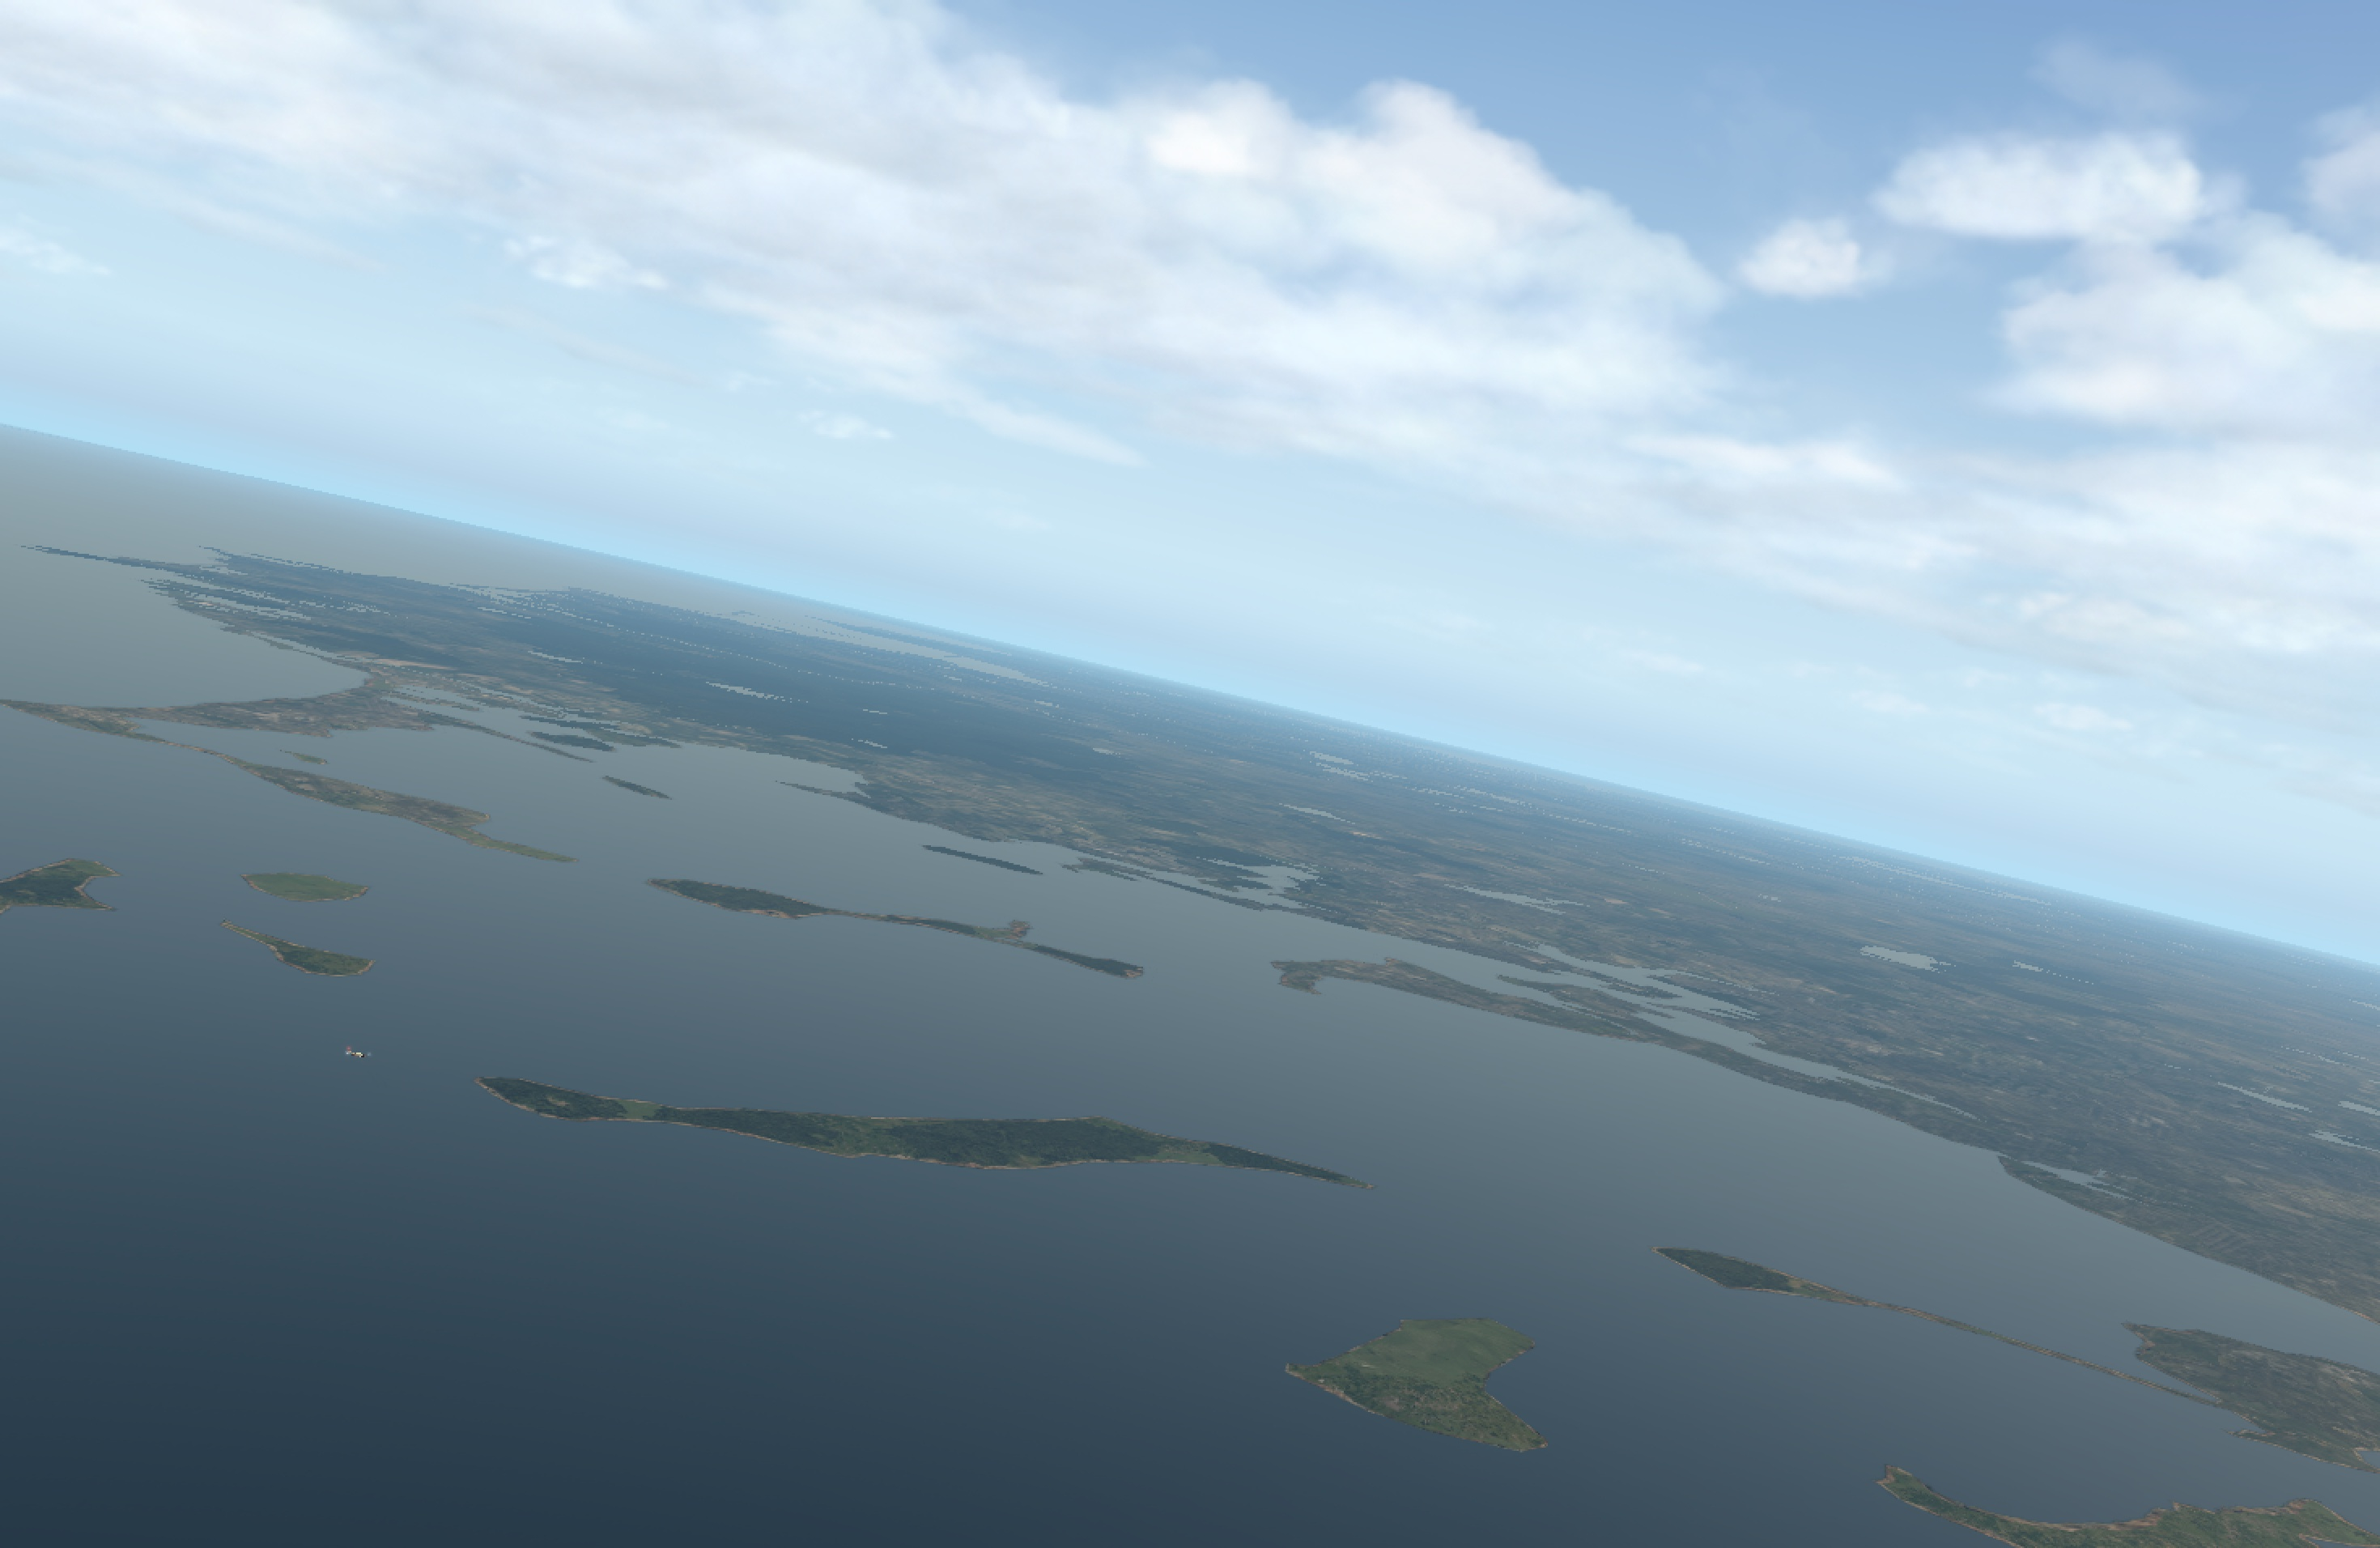aircraft: (343, 1050, 373, 1062)
